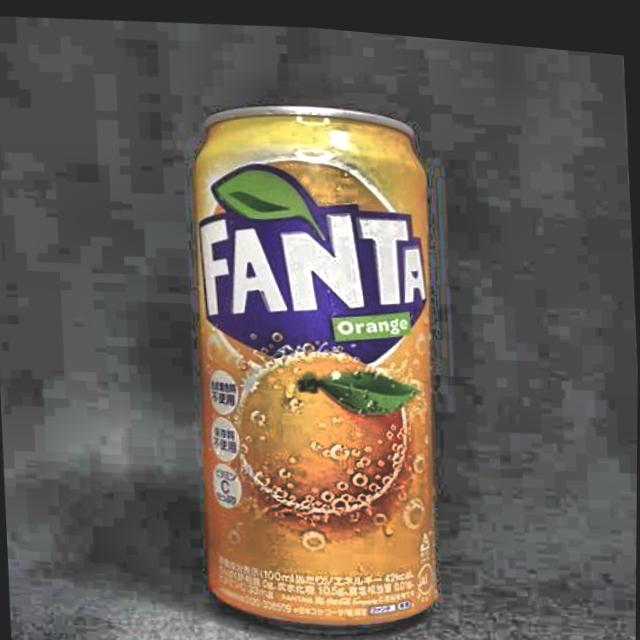Cans: (161, 79, 478, 640)
